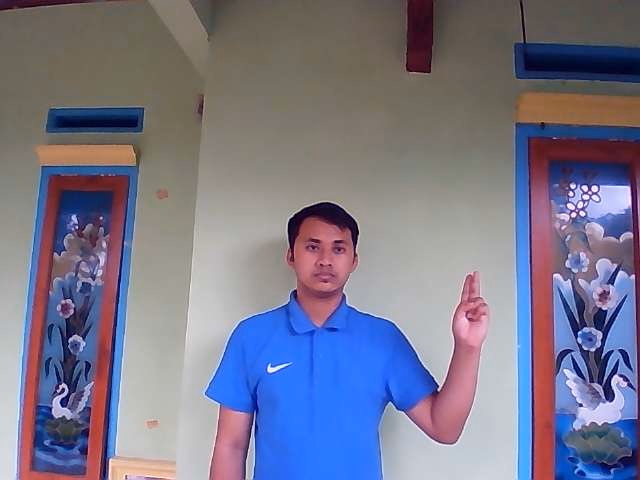U: (450, 270, 490, 345)
